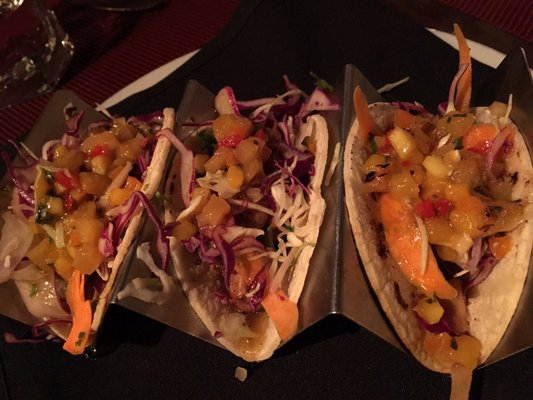curry: (2, 0, 521, 399)
sandwich: (342, 87, 533, 385)
